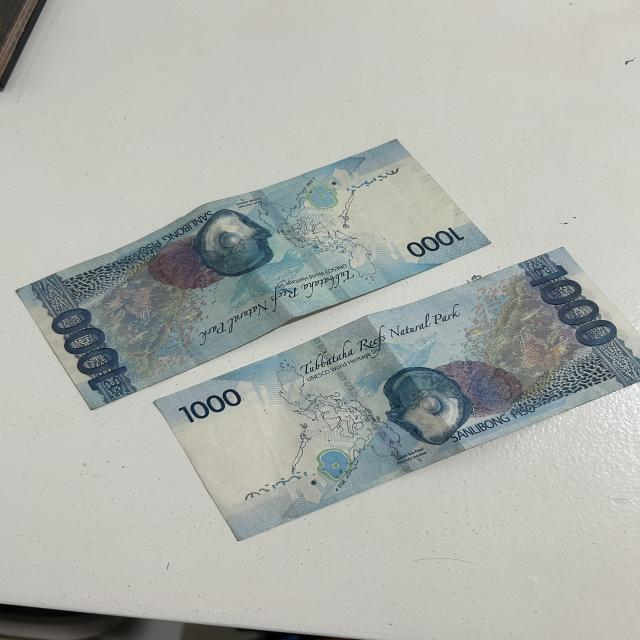1000_pearl: (388, 370, 472, 448), (204, 214, 266, 270)
1000_pearl_watermark: (316, 450, 359, 480), (302, 185, 340, 211)
